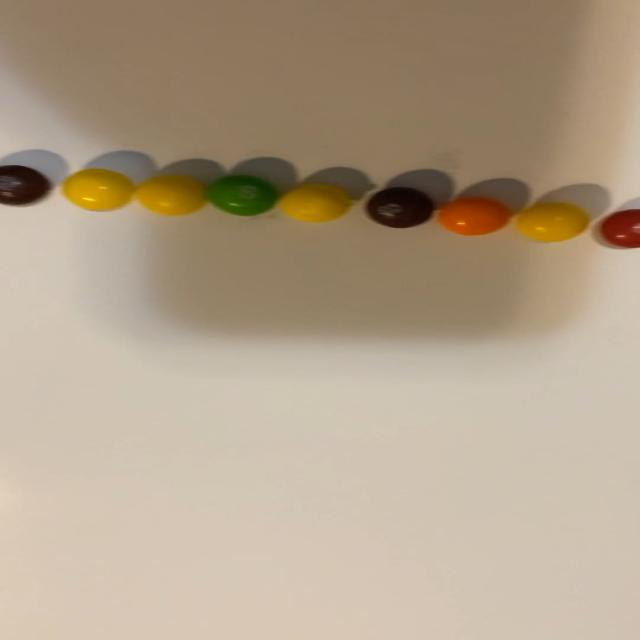smartie: (61, 168, 133, 210), (517, 202, 590, 242), (438, 196, 512, 235), (206, 175, 276, 216), (278, 183, 351, 222), (134, 175, 205, 215), (366, 187, 433, 228), (0, 165, 49, 205), (601, 209, 640, 248)
